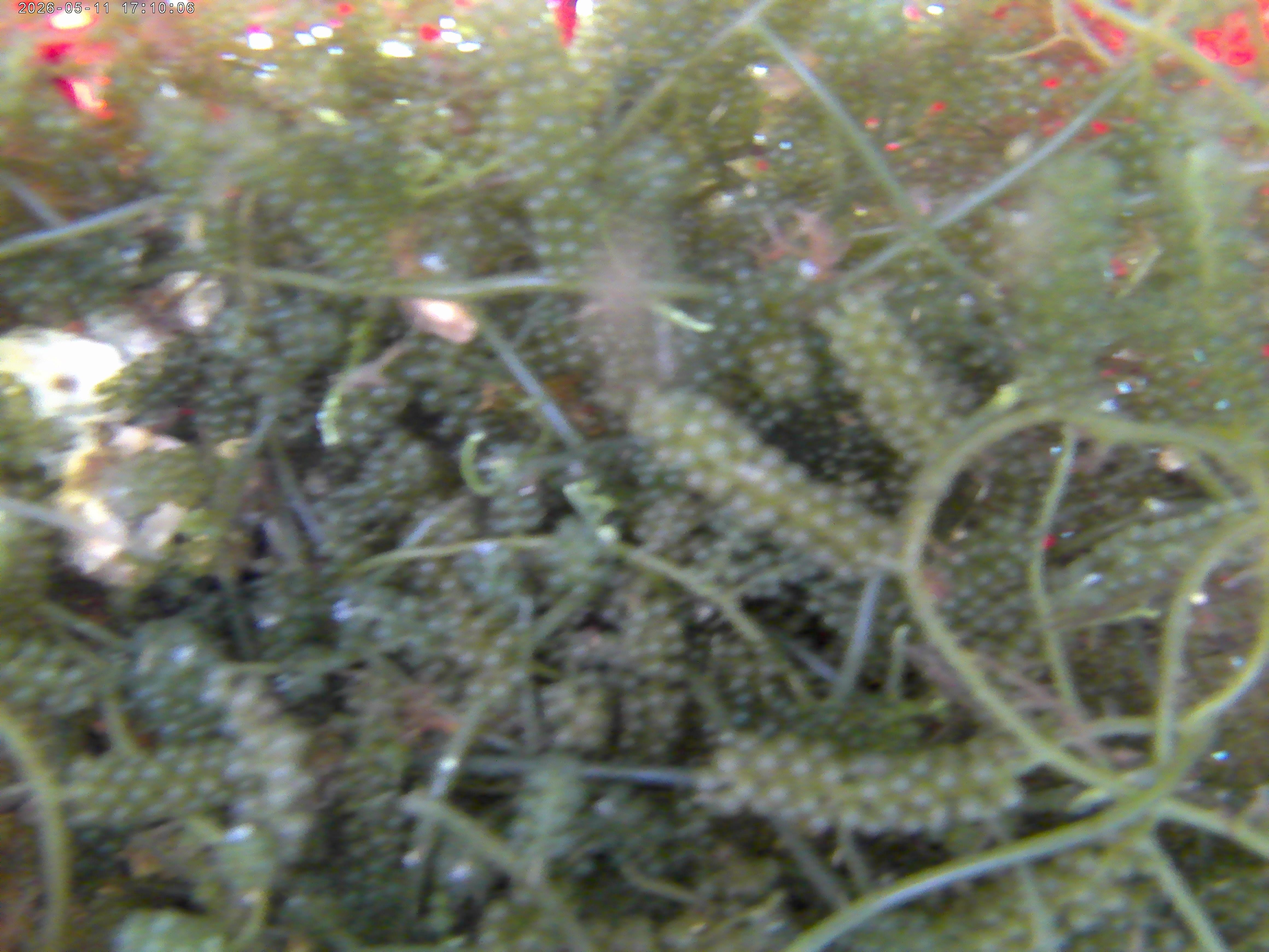Darkening: (985, 736, 1016, 767)
Harvestable: (928, 766, 960, 801), (830, 526, 862, 560), (748, 752, 780, 784), (712, 748, 744, 779), (966, 759, 998, 790), (990, 779, 1022, 809), (868, 524, 898, 555), (956, 792, 986, 822), (690, 765, 721, 793), (806, 507, 833, 538), (701, 437, 731, 464), (674, 444, 702, 472), (856, 778, 885, 805), (1153, 928, 1185, 952), (839, 749, 866, 777), (773, 732, 802, 758), (833, 499, 859, 528), (909, 782, 936, 809), (906, 751, 933, 778), (757, 477, 783, 505), (763, 781, 791, 807), (758, 445, 784, 472), (837, 802, 863, 829), (785, 496, 811, 523), (427, 908, 455, 933), (801, 812, 829, 837), (485, 899, 511, 925), (818, 761, 844, 787), (497, 92, 522, 119), (1003, 917, 1030, 942), (1102, 889, 1129, 914), (883, 771, 911, 795), (502, 61, 528, 86), (110, 802, 135, 828), (794, 791, 818, 818), (784, 464, 808, 491), (13, 682, 39, 706), (1068, 909, 1094, 933), (811, 307, 837, 331), (787, 758, 812, 782), (552, 215, 577, 239), (535, 114, 560, 138), (141, 760, 167, 783), (842, 296, 866, 320), (899, 811, 923, 835), (682, 417, 706, 441), (22, 638, 46, 662), (833, 319, 858, 342), (690, 397, 715, 420), (754, 361, 780, 383), (898, 354, 922, 377), (730, 460, 753, 484), (666, 153, 689, 177), (736, 432, 759, 456), (73, 780, 97, 803), (810, 484, 833, 508), (144, 799, 168, 822), (736, 733, 758, 758), (556, 241, 581, 263), (842, 355, 868, 376), (965, 736, 991, 757), (871, 350, 894, 373), (892, 383, 915, 406), (522, 133, 545, 156), (867, 409, 891, 431), (812, 542, 834, 566), (128, 782, 152, 804), (97, 784, 121, 806), (708, 411, 733, 432), (539, 186, 564, 207), (533, 240, 556, 262), (1126, 522, 1149, 544), (731, 493, 753, 516), (525, 81, 548, 103), (652, 423, 675, 445), (577, 154, 600, 176), (530, 219, 554, 240), (711, 476, 730, 502), (197, 773, 219, 795), (512, 887, 534, 909), (918, 382, 939, 405), (860, 814, 881, 837), (335, 234, 358, 255), (167, 782, 190, 803), (306, 231, 329, 252), (547, 141, 570, 162), (546, 570, 569, 591), (298, 203, 326, 220), (654, 444, 675, 466), (649, 736, 671, 757), (558, 167, 580, 188), (1130, 153, 1152, 174), (291, 214, 313, 235), (845, 6, 867, 27), (867, 308, 889, 329), (176, 757, 198, 778), (970, 228, 992, 249), (829, 340, 852, 360), (113, 765, 136, 785), (784, 350, 807, 370), (1250, 890, 1269, 914), (489, 680, 510, 701), (862, 383, 884, 403), (813, 740, 833, 762), (428, 890, 450, 910), (158, 743, 180, 763), (567, 185, 589, 205), (834, 561, 854, 583), (897, 410, 918, 430), (1166, 516, 1186, 537), (859, 329, 880, 349), (1113, 137, 1134, 157), (883, 329, 904, 349), (399, 595, 420, 615), (858, 398, 880, 417), (664, 665, 686, 684), (926, 402, 945, 424), (321, 220, 345, 237), (974, 567, 994, 587), (568, 560, 588, 580), (1093, 541, 1113, 561), (1124, 570, 1144, 590), (653, 710, 674, 729), (480, 927, 501, 946), (320, 248, 341, 267), (526, 199, 548, 217), (834, 28, 853, 48), (350, 405, 369, 425), (1137, 131, 1157, 150), (483, 650, 503, 669), (997, 614, 1017, 633), (788, 277, 808, 296), (562, 262, 583, 280), (687, 469, 706, 488), (903, 257, 922, 276), (918, 424, 937, 443), (1185, 512, 1204, 531), (529, 162, 549, 180), (956, 582, 976, 600), (421, 388, 441, 406), (721, 320, 741, 338), (1147, 565, 1167, 583), (353, 250, 376, 265), (718, 729, 737, 747), (889, 436, 910, 452), (854, 546, 872, 564), (845, 50, 863, 68), (466, 680, 485, 697), (743, 296, 762, 313), (626, 714, 646, 730), (623, 695, 641, 712), (823, 52, 841, 69), (843, 375, 859, 394), (375, 624, 394, 640), (580, 125, 597, 142), (667, 642, 688, 655), (806, 598, 823, 614), (972, 595, 989, 611), (824, 612, 840, 629), (628, 627, 647, 641), (649, 691, 663, 710), (632, 609, 649, 624), (650, 604, 668, 618), (663, 620, 677, 638), (648, 641, 664, 656), (671, 694, 686, 710)
